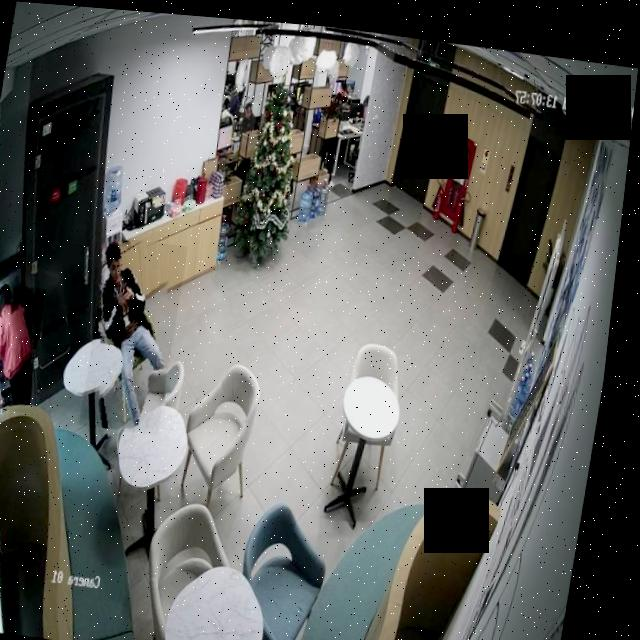person: (88, 233, 194, 433), (0, 283, 52, 412), (240, 96, 261, 130), (229, 81, 248, 113)
